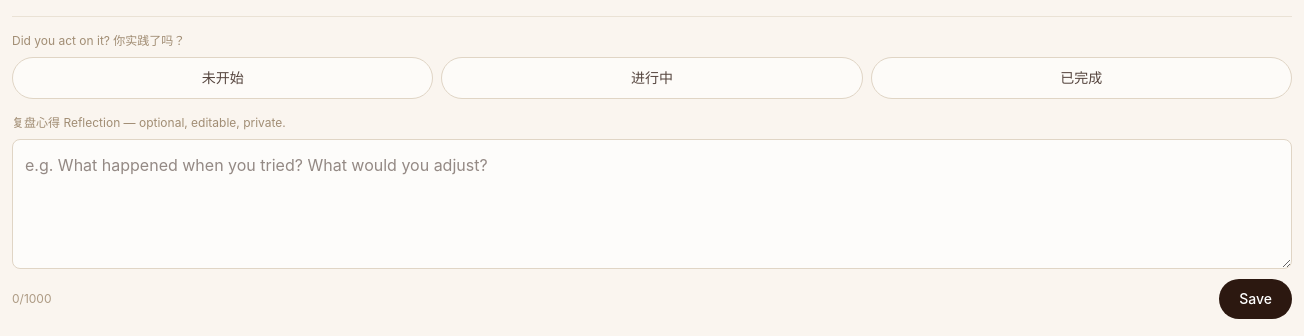
Test: reflection note › save → PATCH carries ONLY reviewNote; Saved ✓ appears
Type "did it, felt calm" into the text box at [652, 204], box 12,139 -> 1292,269
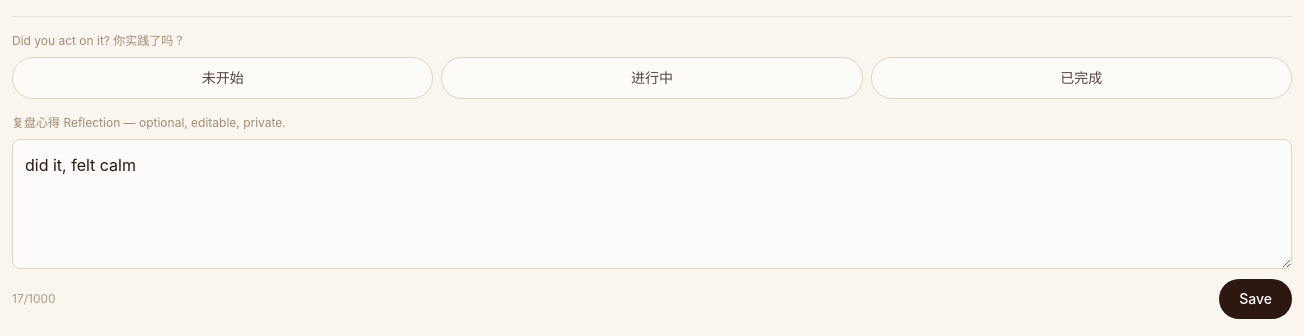
Click the button "Save" at [1256, 299], box 1219,279 -> 1292,319
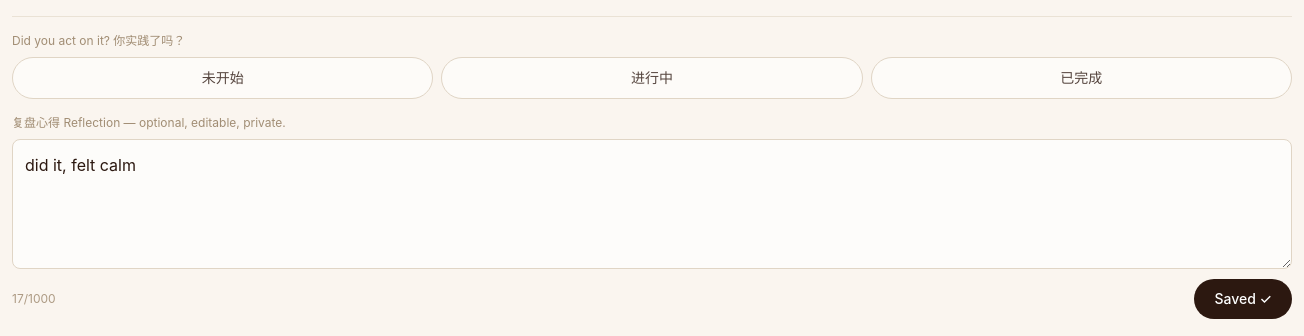
Now the button "Saved ✓" is shown, box 1194,279 -> 1292,319
